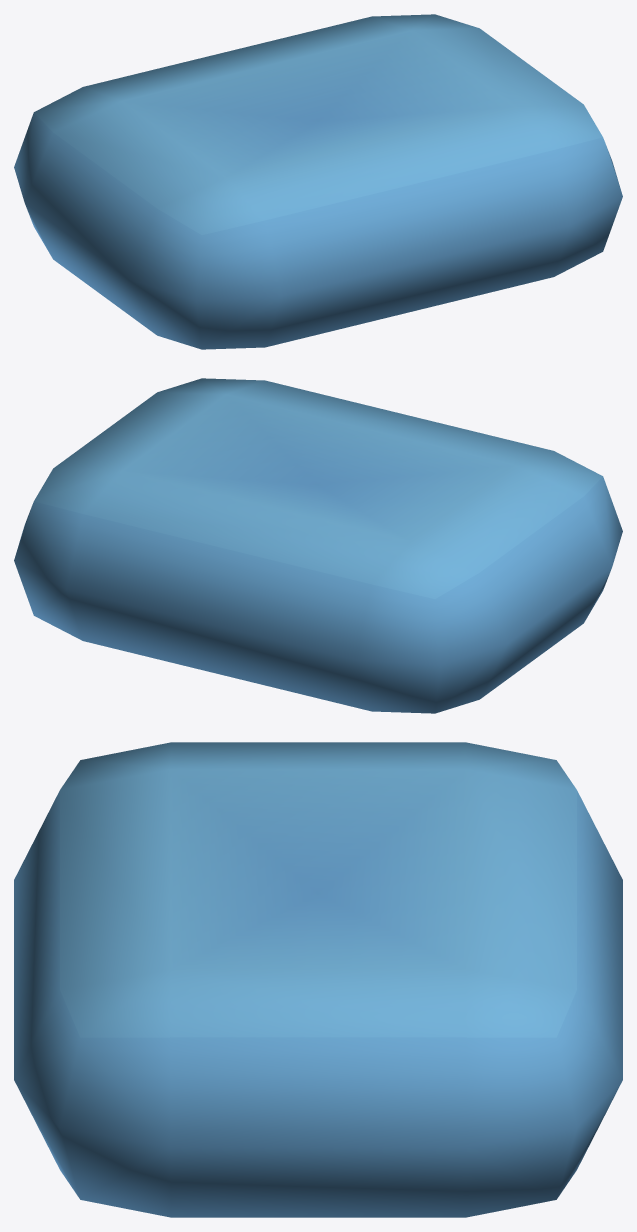
3 renders of one model, top to bottom at view 1: azimuth 30°, elevation 25°; view 2: azimuth 150°, elevation 25°; view 3: azimuth 270°, elevation 25°, orthographic. The views are drawn at different scales.
Parts seen in each view (by area): view 1: pillow_B; view 2: pillow_B; view 3: pillow_B.
Part boxes in pixels (left/top/right/bottom): pillow_B: left=14, top=14, right=622, bottom=349; pillow_B: left=14, top=378, right=622, bottom=713; pillow_B: left=14, top=742, right=622, bottom=1217.
Size of the model in its own units: 0.65 by 0.2 by 0.5.
Materials: 1 (1 with a texture image).
